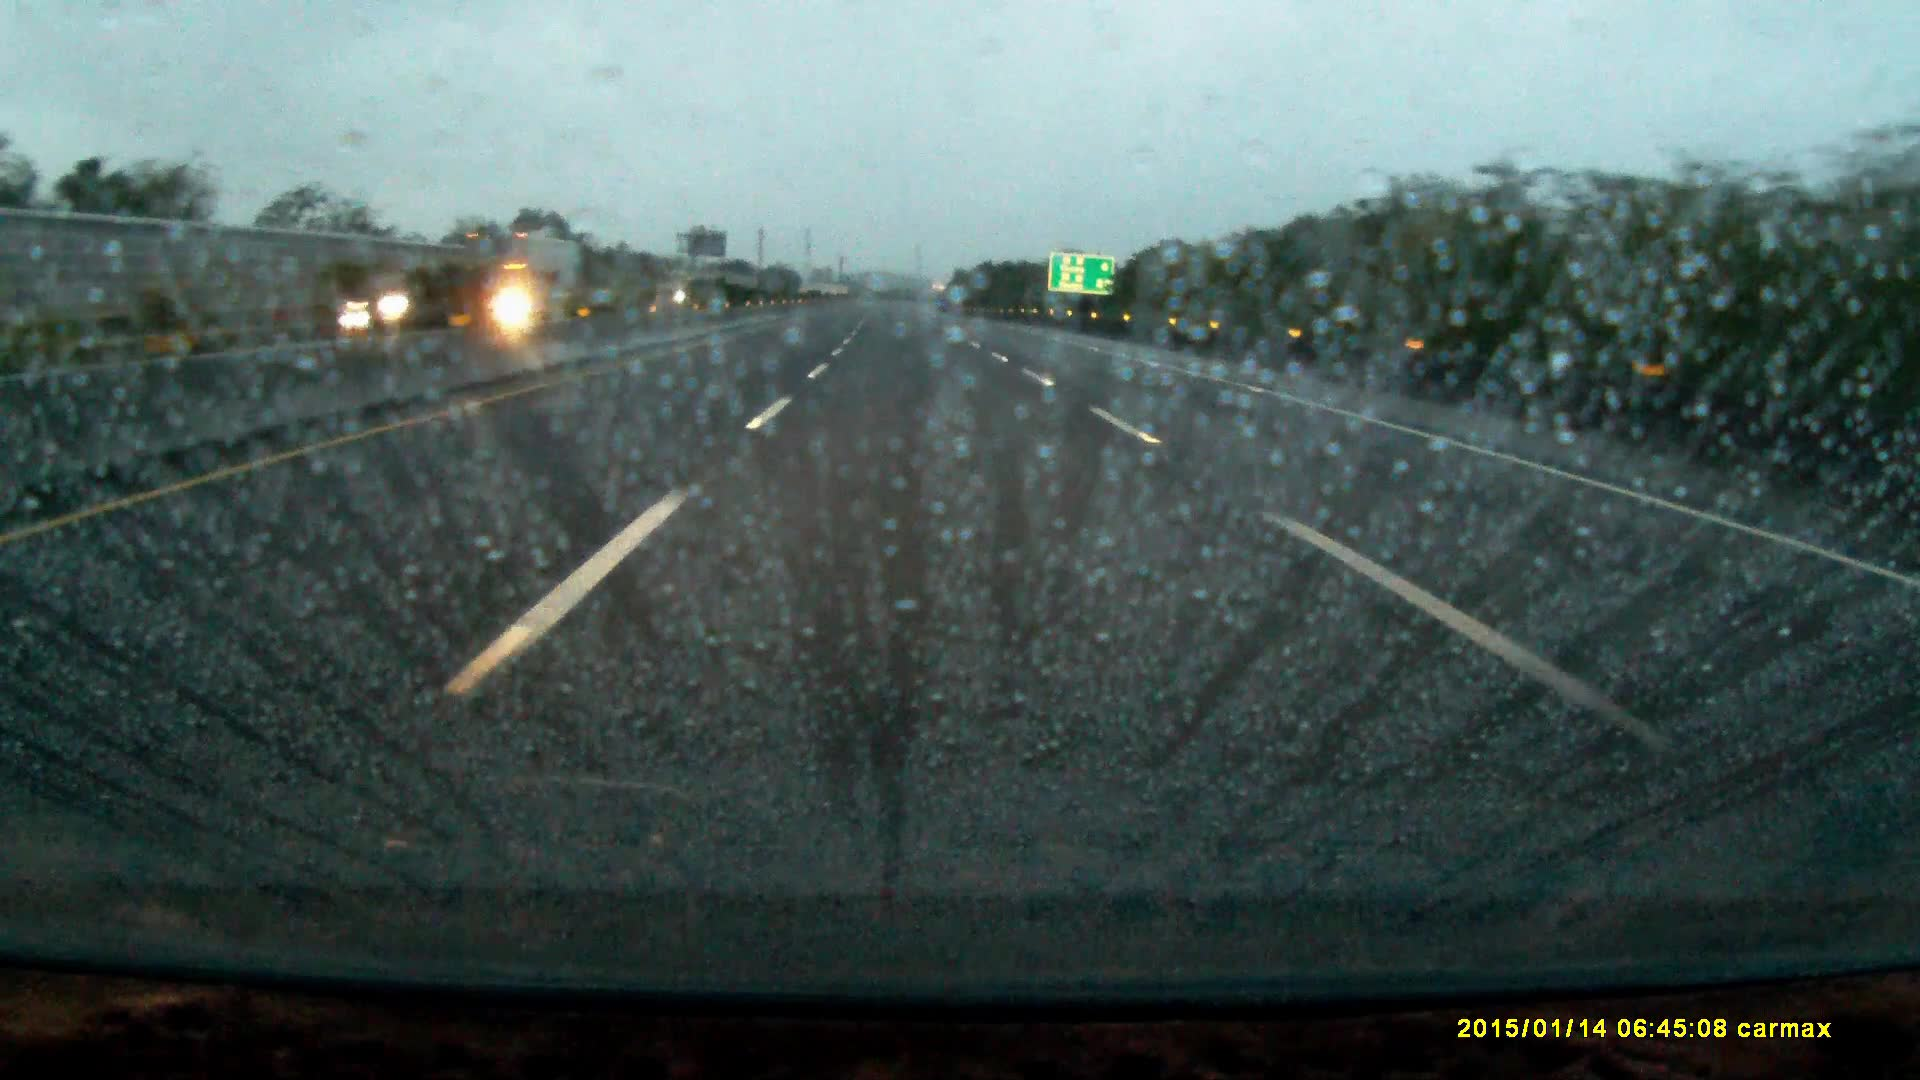vehicle: (458, 232, 579, 322), (342, 280, 438, 334)
